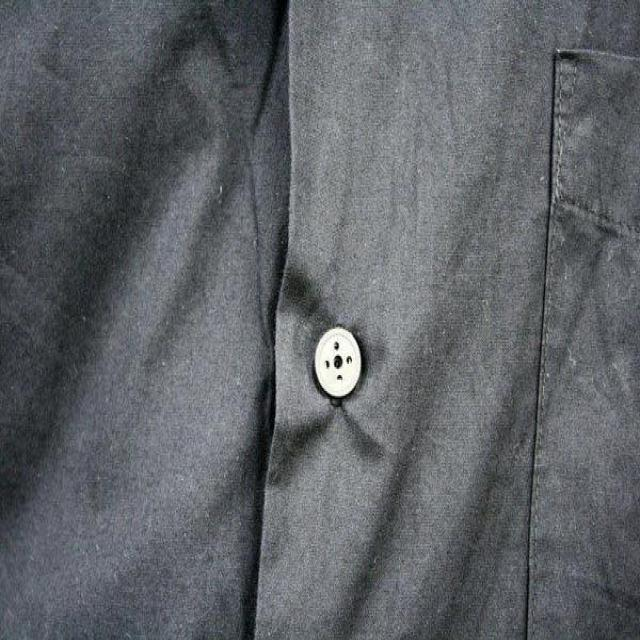hidden camera: (327, 344, 352, 380)
